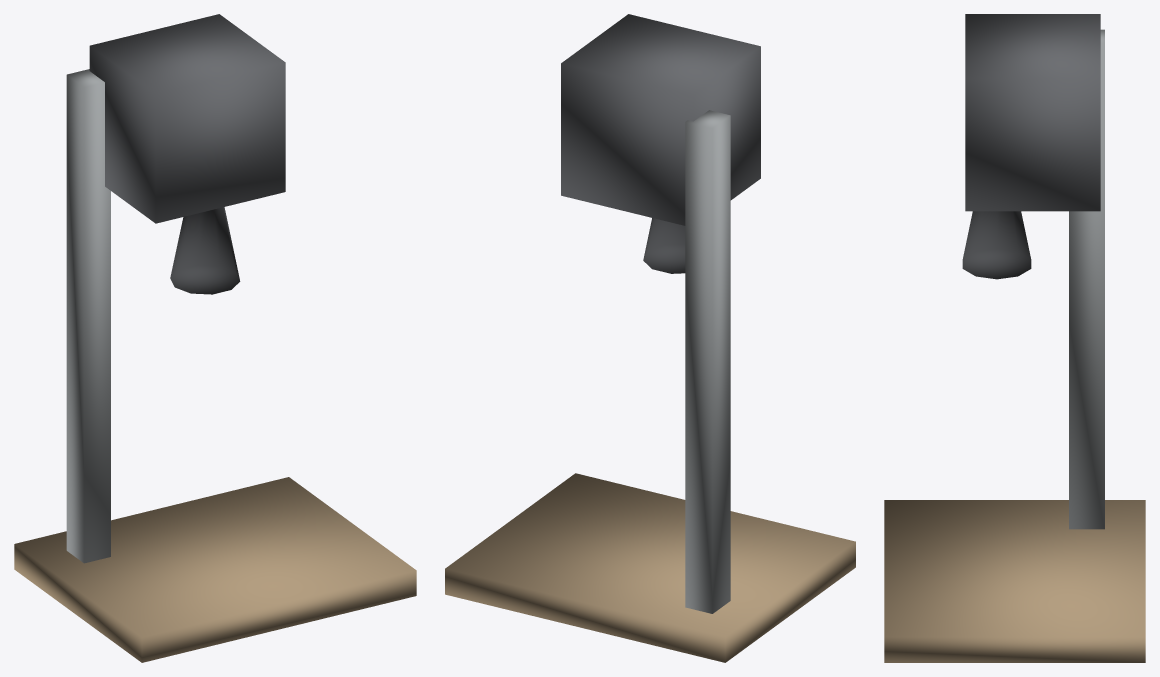
File: photo_enlarger__tall.glb
3 views of the same model, side by side, from view 1: azimuth 30°, elevation 25°; view 2: azimuth 150°, elevation 25°; view 3: azimuth 270°, elevation 25° (orthographic). The views are drawn at different scales.
Visible parts, largest first — view 1: world; view 2: world; view 3: world.
Part boxes in pixels (x1,y1,x2,y2): world: (14, 14, 416, 662); world: (445, 14, 855, 662); world: (884, 14, 1145, 662).
Bounding box in the file's own units: 0.72 × 1.32 × 0.58.
